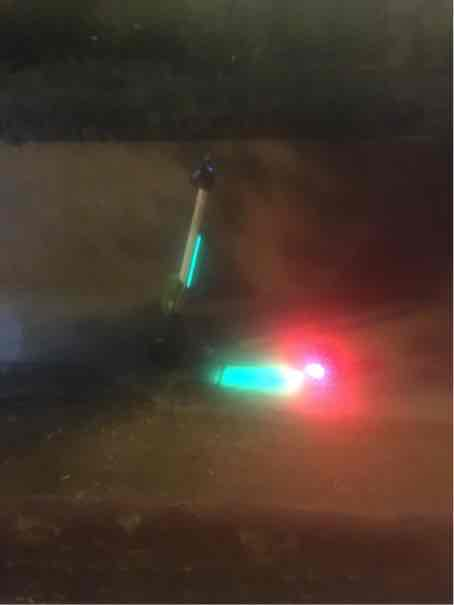scooter: (155, 141, 354, 417)
